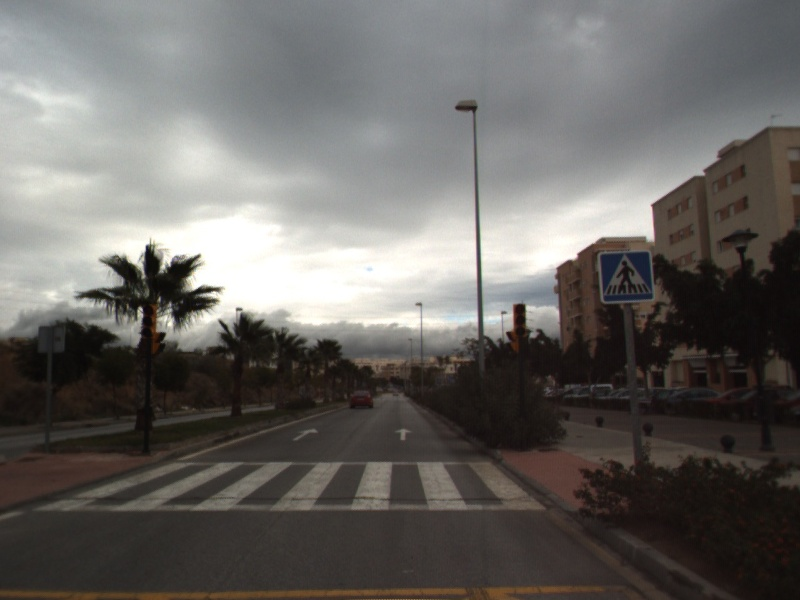STRAIGHT: (291, 426, 320, 442), (393, 426, 415, 442)
